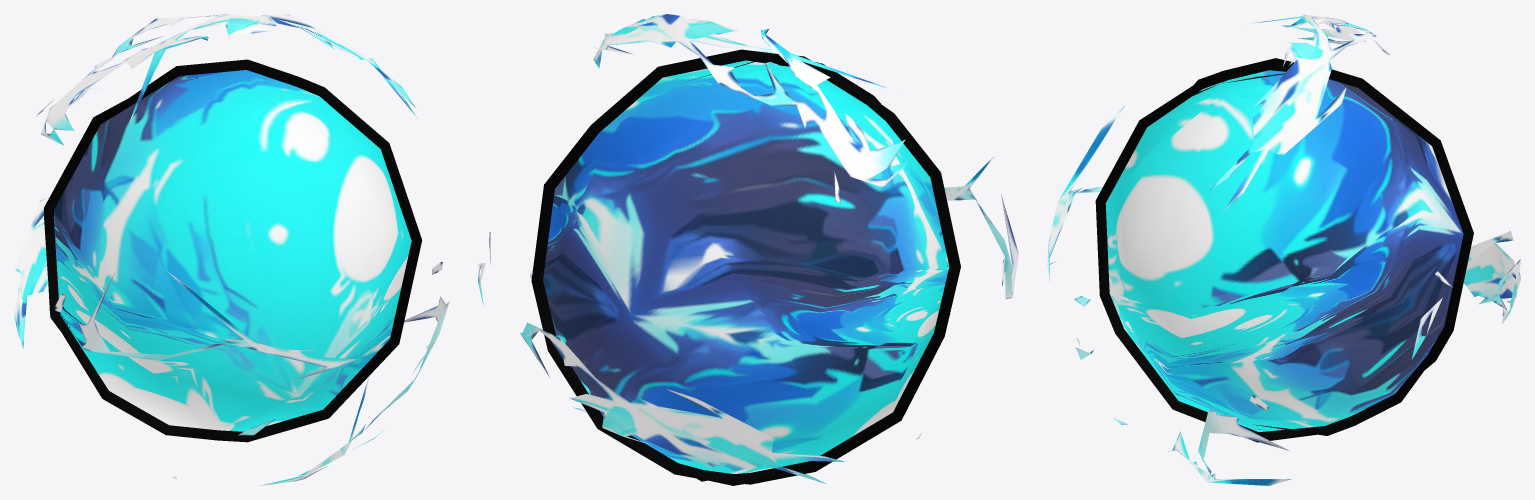
3 views of the same model, side by side, from view 1: azimuth 30°, elevation 25°; view 2: azimuth 150°, elevation 25°; view 3: azimuth 270°, elevation 25° (orthographic). The views are drawn at different scales.
Parts seen in each view (by area): view 1: Projectile01Anime; view 2: Projectile01Anime; view 3: Projectile01Anime.
Part boxes in pixels (<box>): Projectile01Anime: <box>14,14,449,485</box>; Projectile01Anime: <box>478,14,1018,485</box>; Projectile01Anime: <box>1047,14,1520,485</box>.
Size of what is drawn, in the model's own units: 0.3713 by 0.3688 by 0.3832.
2 materials, 1 textured.
